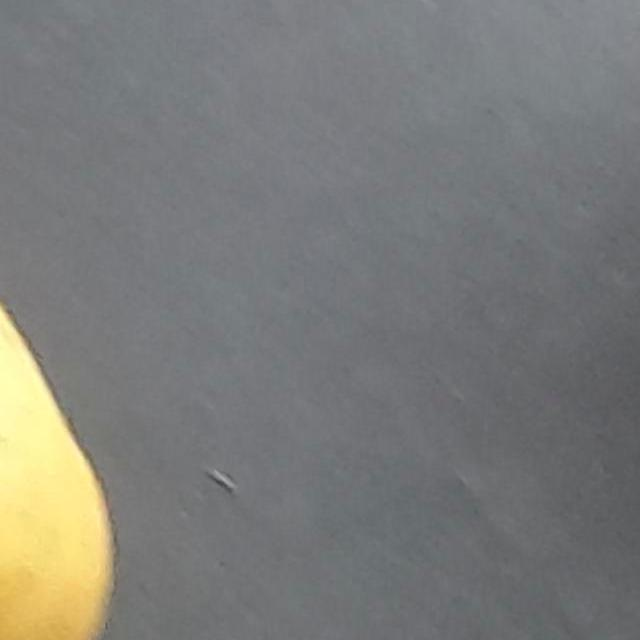potato: (0, 130, 197, 640)
